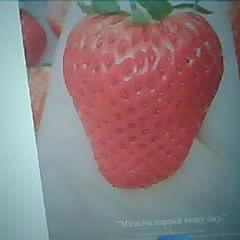straw-ripe: (64, 7, 224, 189)
